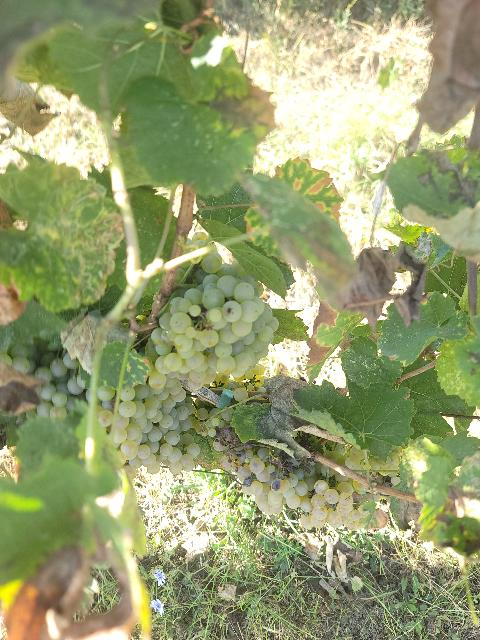grapes: (146, 251, 279, 389), (114, 370, 200, 474), (295, 479, 364, 530)
